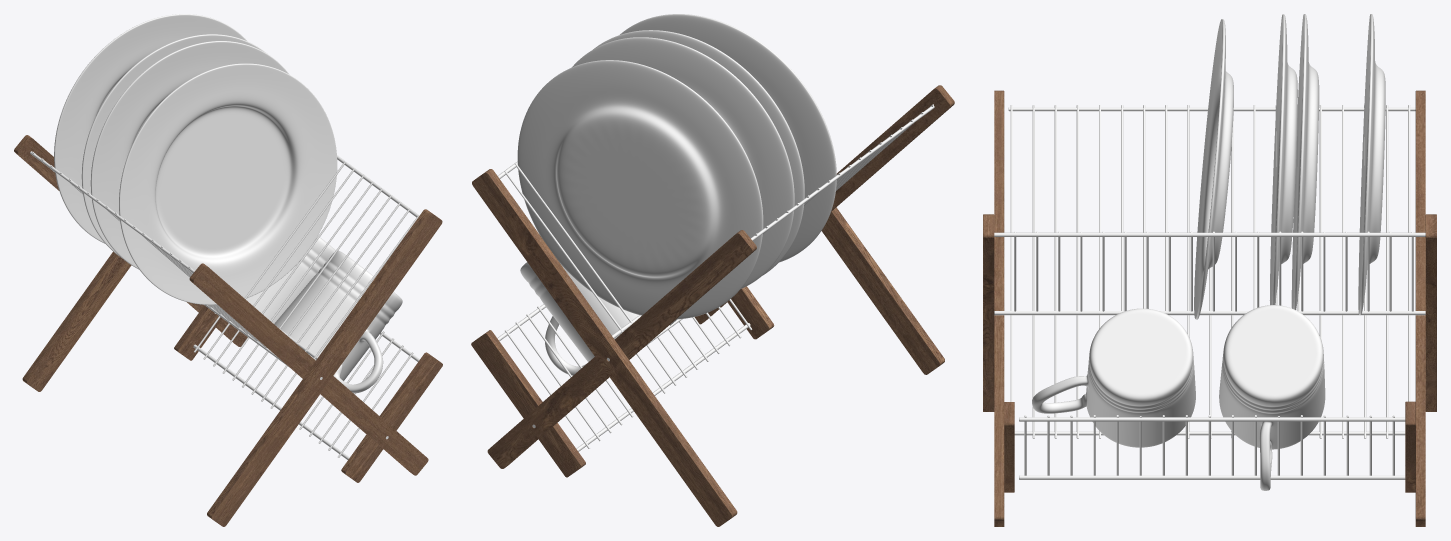
Rendered from bk_dish_rack.glb.
3 views of the same model, side by side, from view 1: azimuth 30°, elevation 25°; view 2: azimuth 150°, elevation 25°; view 3: azimuth 270°, elevation 25° (orthographic). The views are drawn at different scales.
Parts seen in each view (by area): view 1: Circle, Cube.003, Circle.001, Circle.003, Cylinder.004, Circle.004, Circle.002, Circle.005; view 2: Circle.003, Cube.003, Circle.002, Circle, Cylinder.004, Circle.001, Circle.005; view 3: Cylinder.004, Cube.003, Circle.004, Circle.005, Circle, Circle.001, Circle.003, Circle.002, Cylinder.005.
Part boxes in pixels (x1,y1,x2,y2): Circle: [119, 63, 337, 304]; Cube.003: [14, 135, 442, 526]; Circle.001: [90, 41, 289, 269]; Circle.003: [54, 14, 247, 243]; Cylinder.004: [30, 151, 419, 459]; Circle.004: [274, 250, 402, 393]; Circle.002: [81, 34, 266, 257]; Circle.005: [246, 236, 335, 323]; Circle.003: [517, 60, 763, 319]; Cube.003: [471, 85, 954, 526]; Circle.002: [572, 37, 794, 288]; Circle: [620, 14, 836, 262]; Cylinder.004: [497, 104, 934, 451]; Circle.001: [593, 30, 804, 275]; Circle.005: [520, 262, 638, 375]; Cylinder.004: [994, 105, 1425, 479]; Cube.003: [983, 90, 1436, 526]; Circle.004: [1032, 308, 1195, 447]; Circle.005: [1219, 305, 1325, 490]; Circle: [1194, 19, 1233, 319]; Circle.001: [1269, 14, 1297, 304]; Circle.003: [1358, 14, 1385, 315]; Circle.002: [1291, 14, 1319, 309]; Cylinder.005: [994, 232, 1425, 236].
Bounding box in the file's own units: 0.2972 × 0.3976 × 0.3708.
8 materials, 1 textured.
